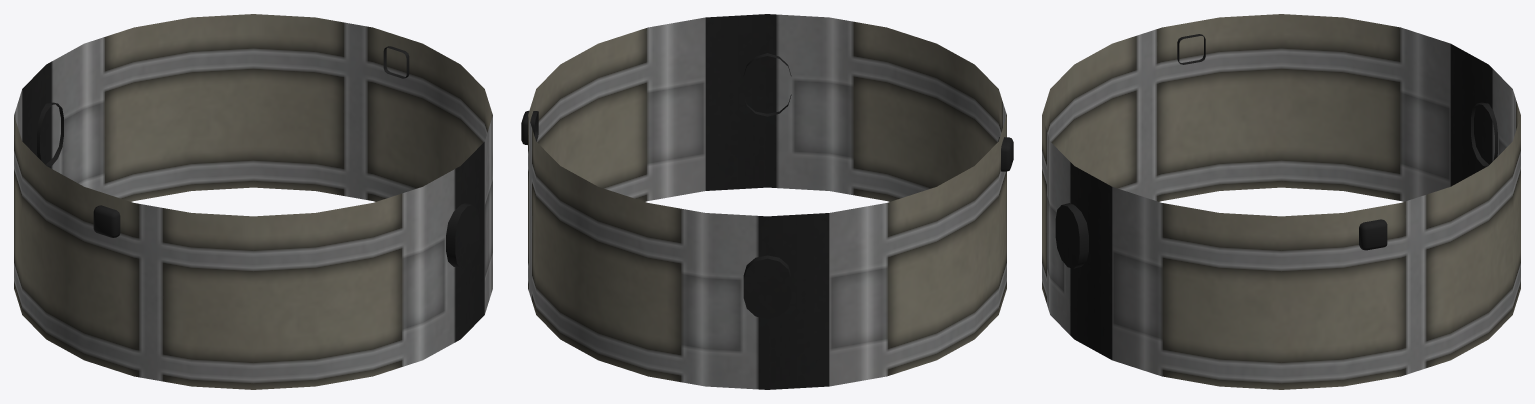
The model's file is fuel_tank.fbx.
3 renders of one model, left to right at view 1: azimuth 30°, elevation 25°; view 2: azimuth 150°, elevation 25°; view 3: azimuth 270°, elevation 25°, orthographic.
Visible parts, largest first — view 1: 2; view 2: 2; view 3: 2.
Boxes of the visible parts, x1,y1,x2,y2 form: 2: (14, 14, 492, 389); 2: (521, 14, 1013, 389); 2: (1042, 14, 1520, 389).
Size of the model in its own units: 1.25 by 0.5 by 1.25.
